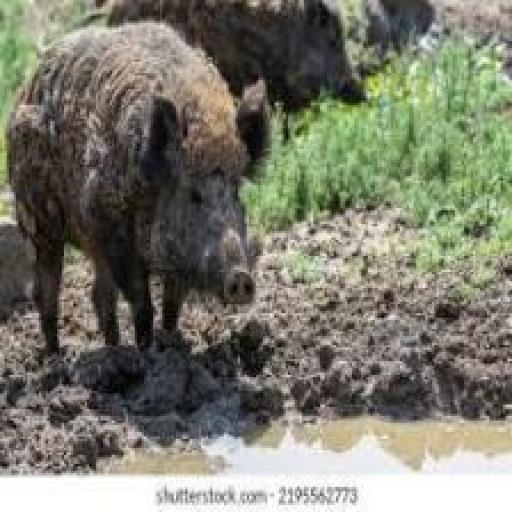Pig: (2, 14, 271, 391), (80, 0, 376, 175)
